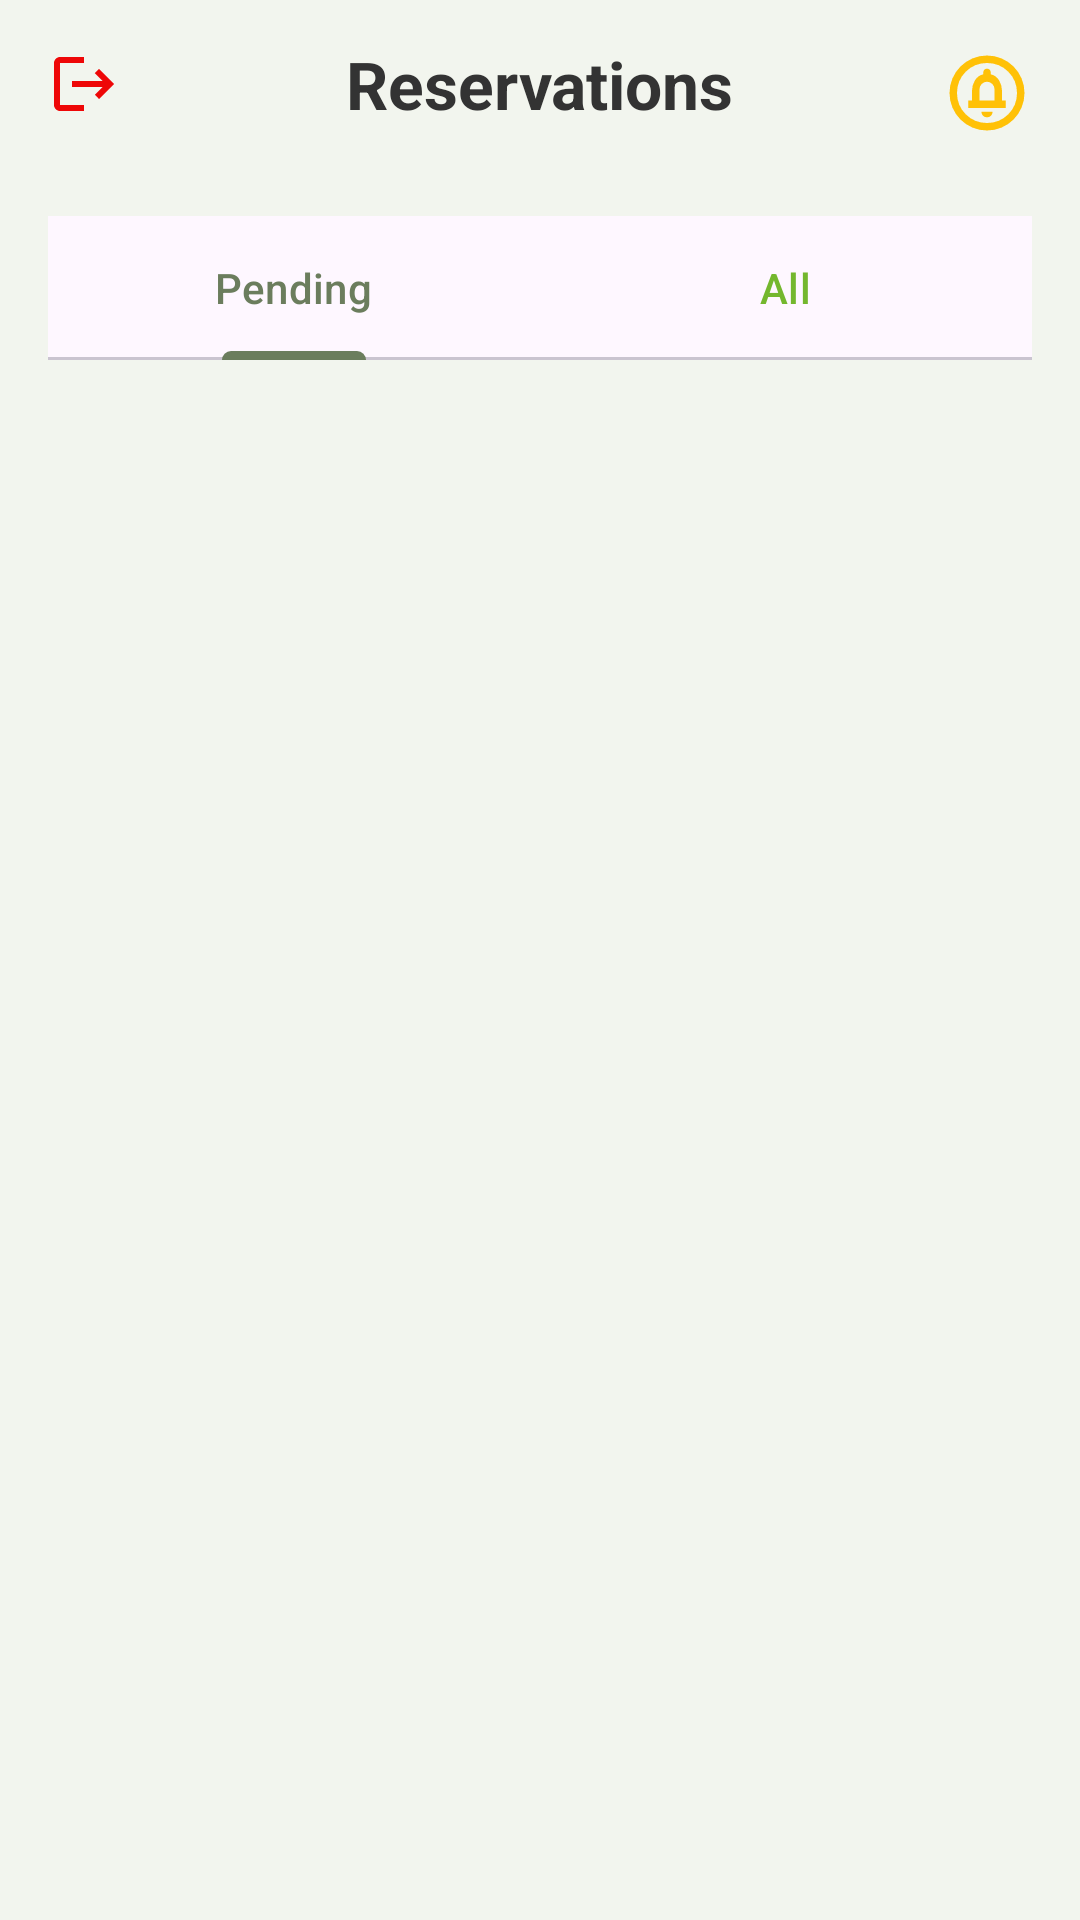

Locate icon controls on the screen. Image size 1080×1920, boxes as (x1, y1, x2, y2).
Notifications: (949, 55, 1025, 131)
